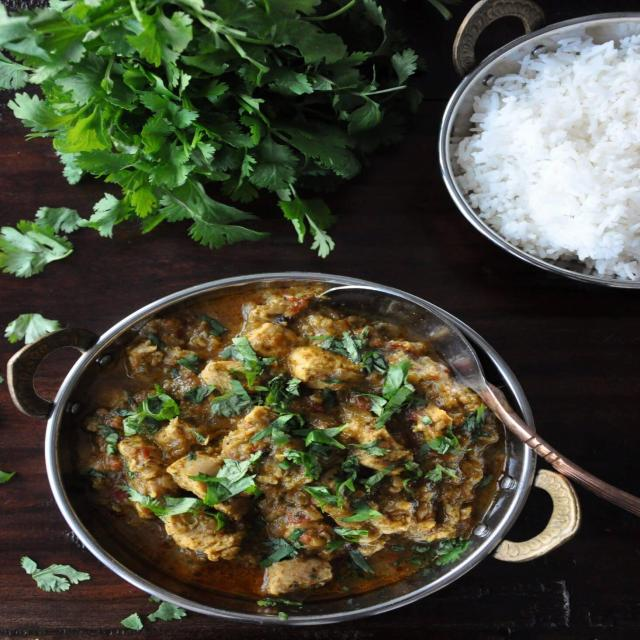chicken: (68, 282, 524, 605)
rice: (456, 24, 640, 262)
